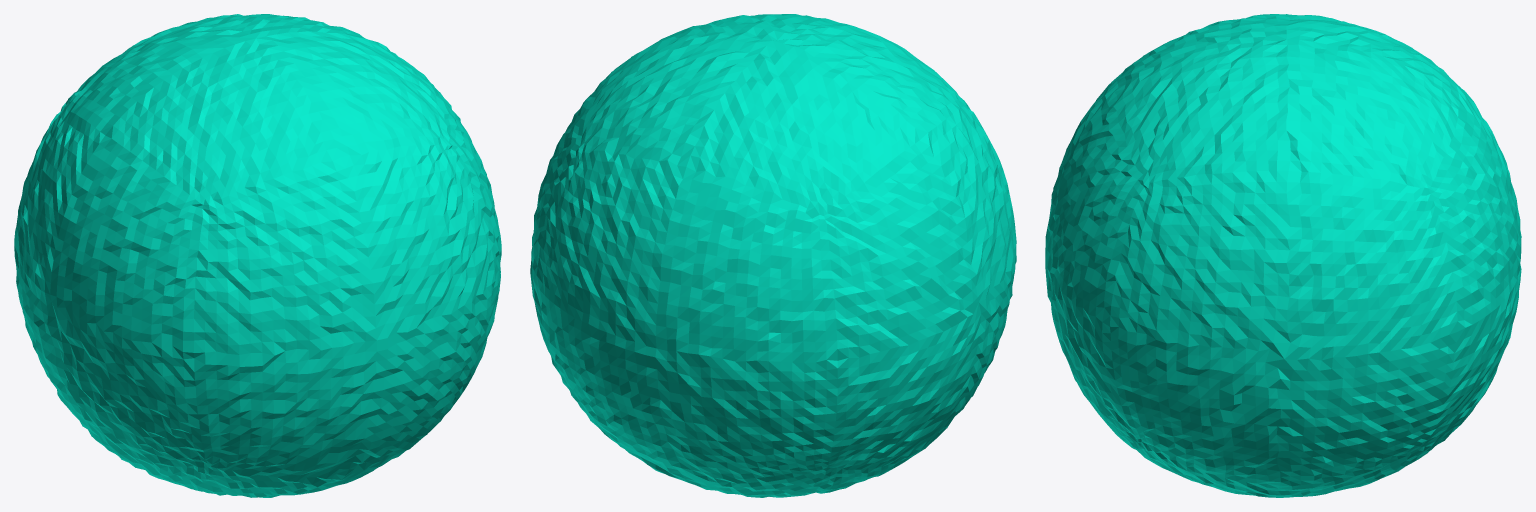
Rendered from Sea27.fbx.
The picture shows the model from 3 angles, left to right: view 1: azimuth 30°, elevation 25°; view 2: azimuth 150°, elevation 25°; view 3: azimuth 270°, elevation 25°; orthographic projection.
Visible parts, largest first — view 1: pCube1; view 2: pCube1; view 3: pCube1.
Boxes of the visible parts, <box> form: pCube1: <box>14,14,501,497</box>; pCube1: <box>530,14,1016,497</box>; pCube1: <box>1045,14,1521,497</box>.
Bounding box in the file's own units: 39.97 × 39.92 × 39.87.
